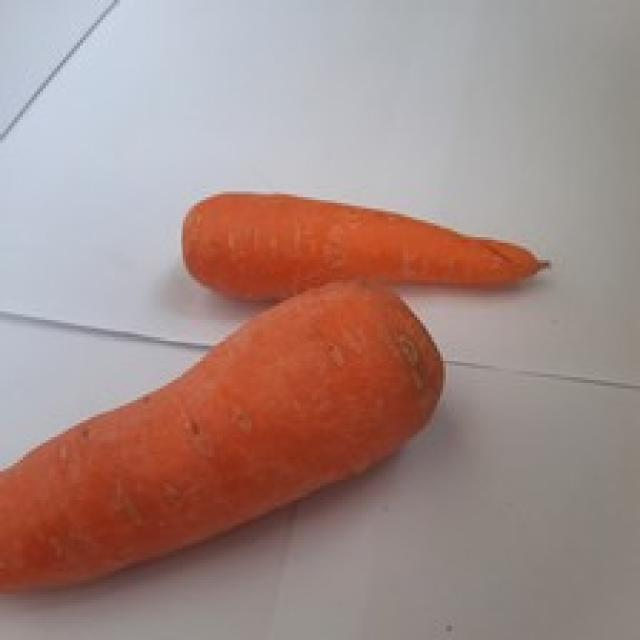carrot: (0, 280, 449, 594), (186, 188, 553, 301)
